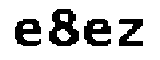8: (46, 5, 81, 51)
e: (10, 18, 44, 47), (83, 17, 113, 48)
z: (116, 16, 147, 50)
